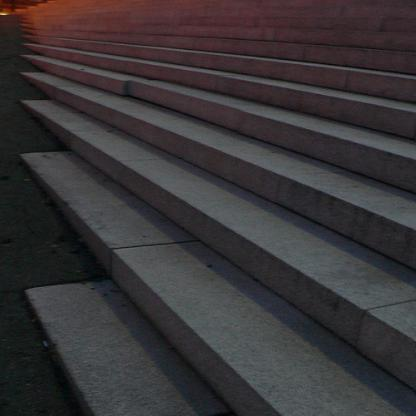stairs: (67, 162, 416, 416)
